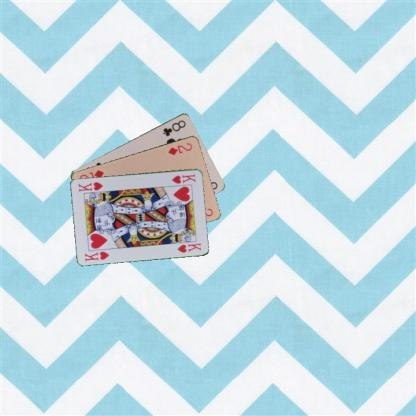2d: (165, 140, 194, 156)
8c: (161, 118, 187, 138)
Kh: (169, 171, 197, 185), (82, 248, 110, 262)
